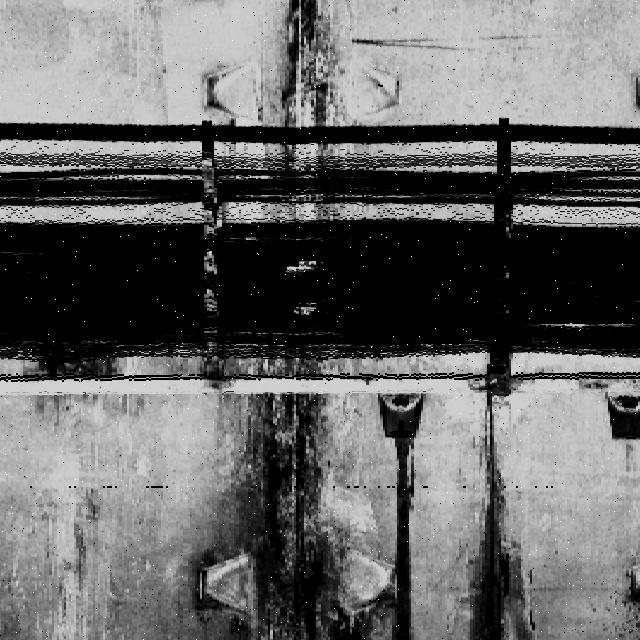leakage: (222, 358, 346, 640), (250, 1, 360, 159), (464, 410, 535, 640), (385, 435, 434, 640)
